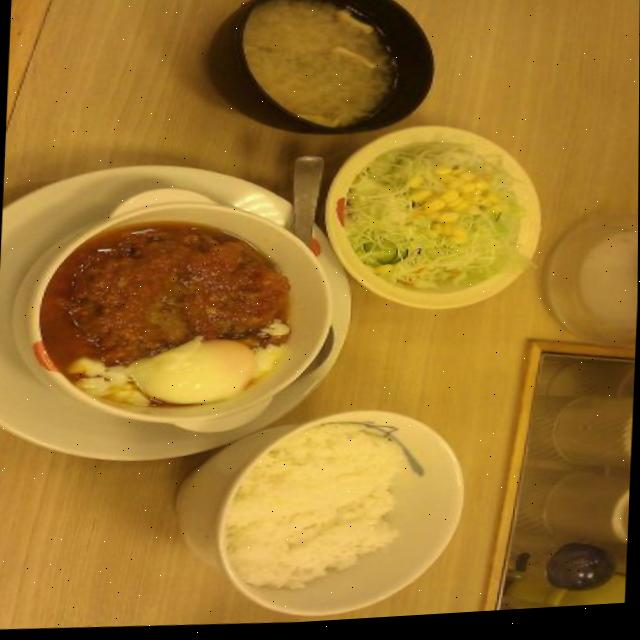汤锅炖物: (197, 0, 445, 151)
米饭主食: (161, 391, 473, 630)
蔬菜料理: (312, 118, 550, 331)
